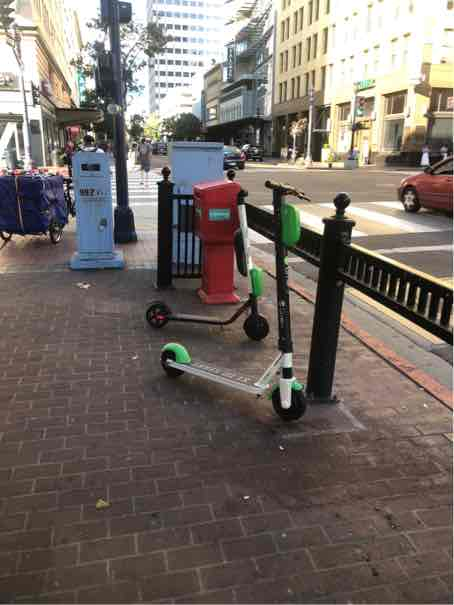scooter: (172, 161, 299, 419)
